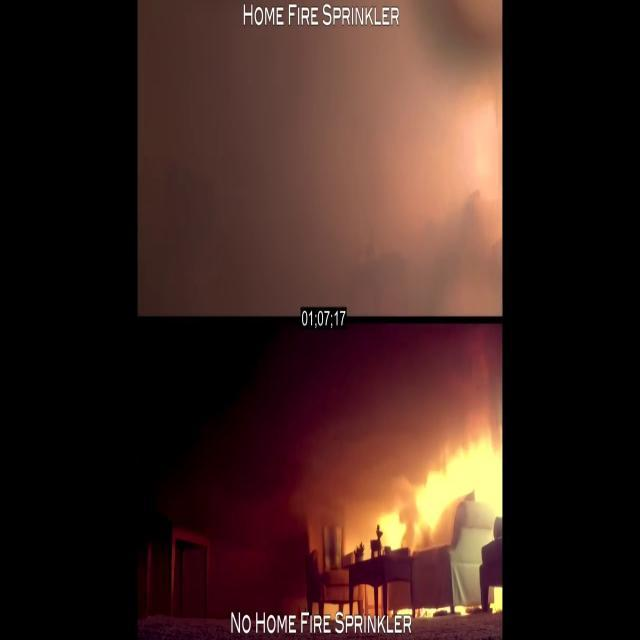Fire: (338, 421, 502, 563)
Smoke: (194, 6, 498, 307)
